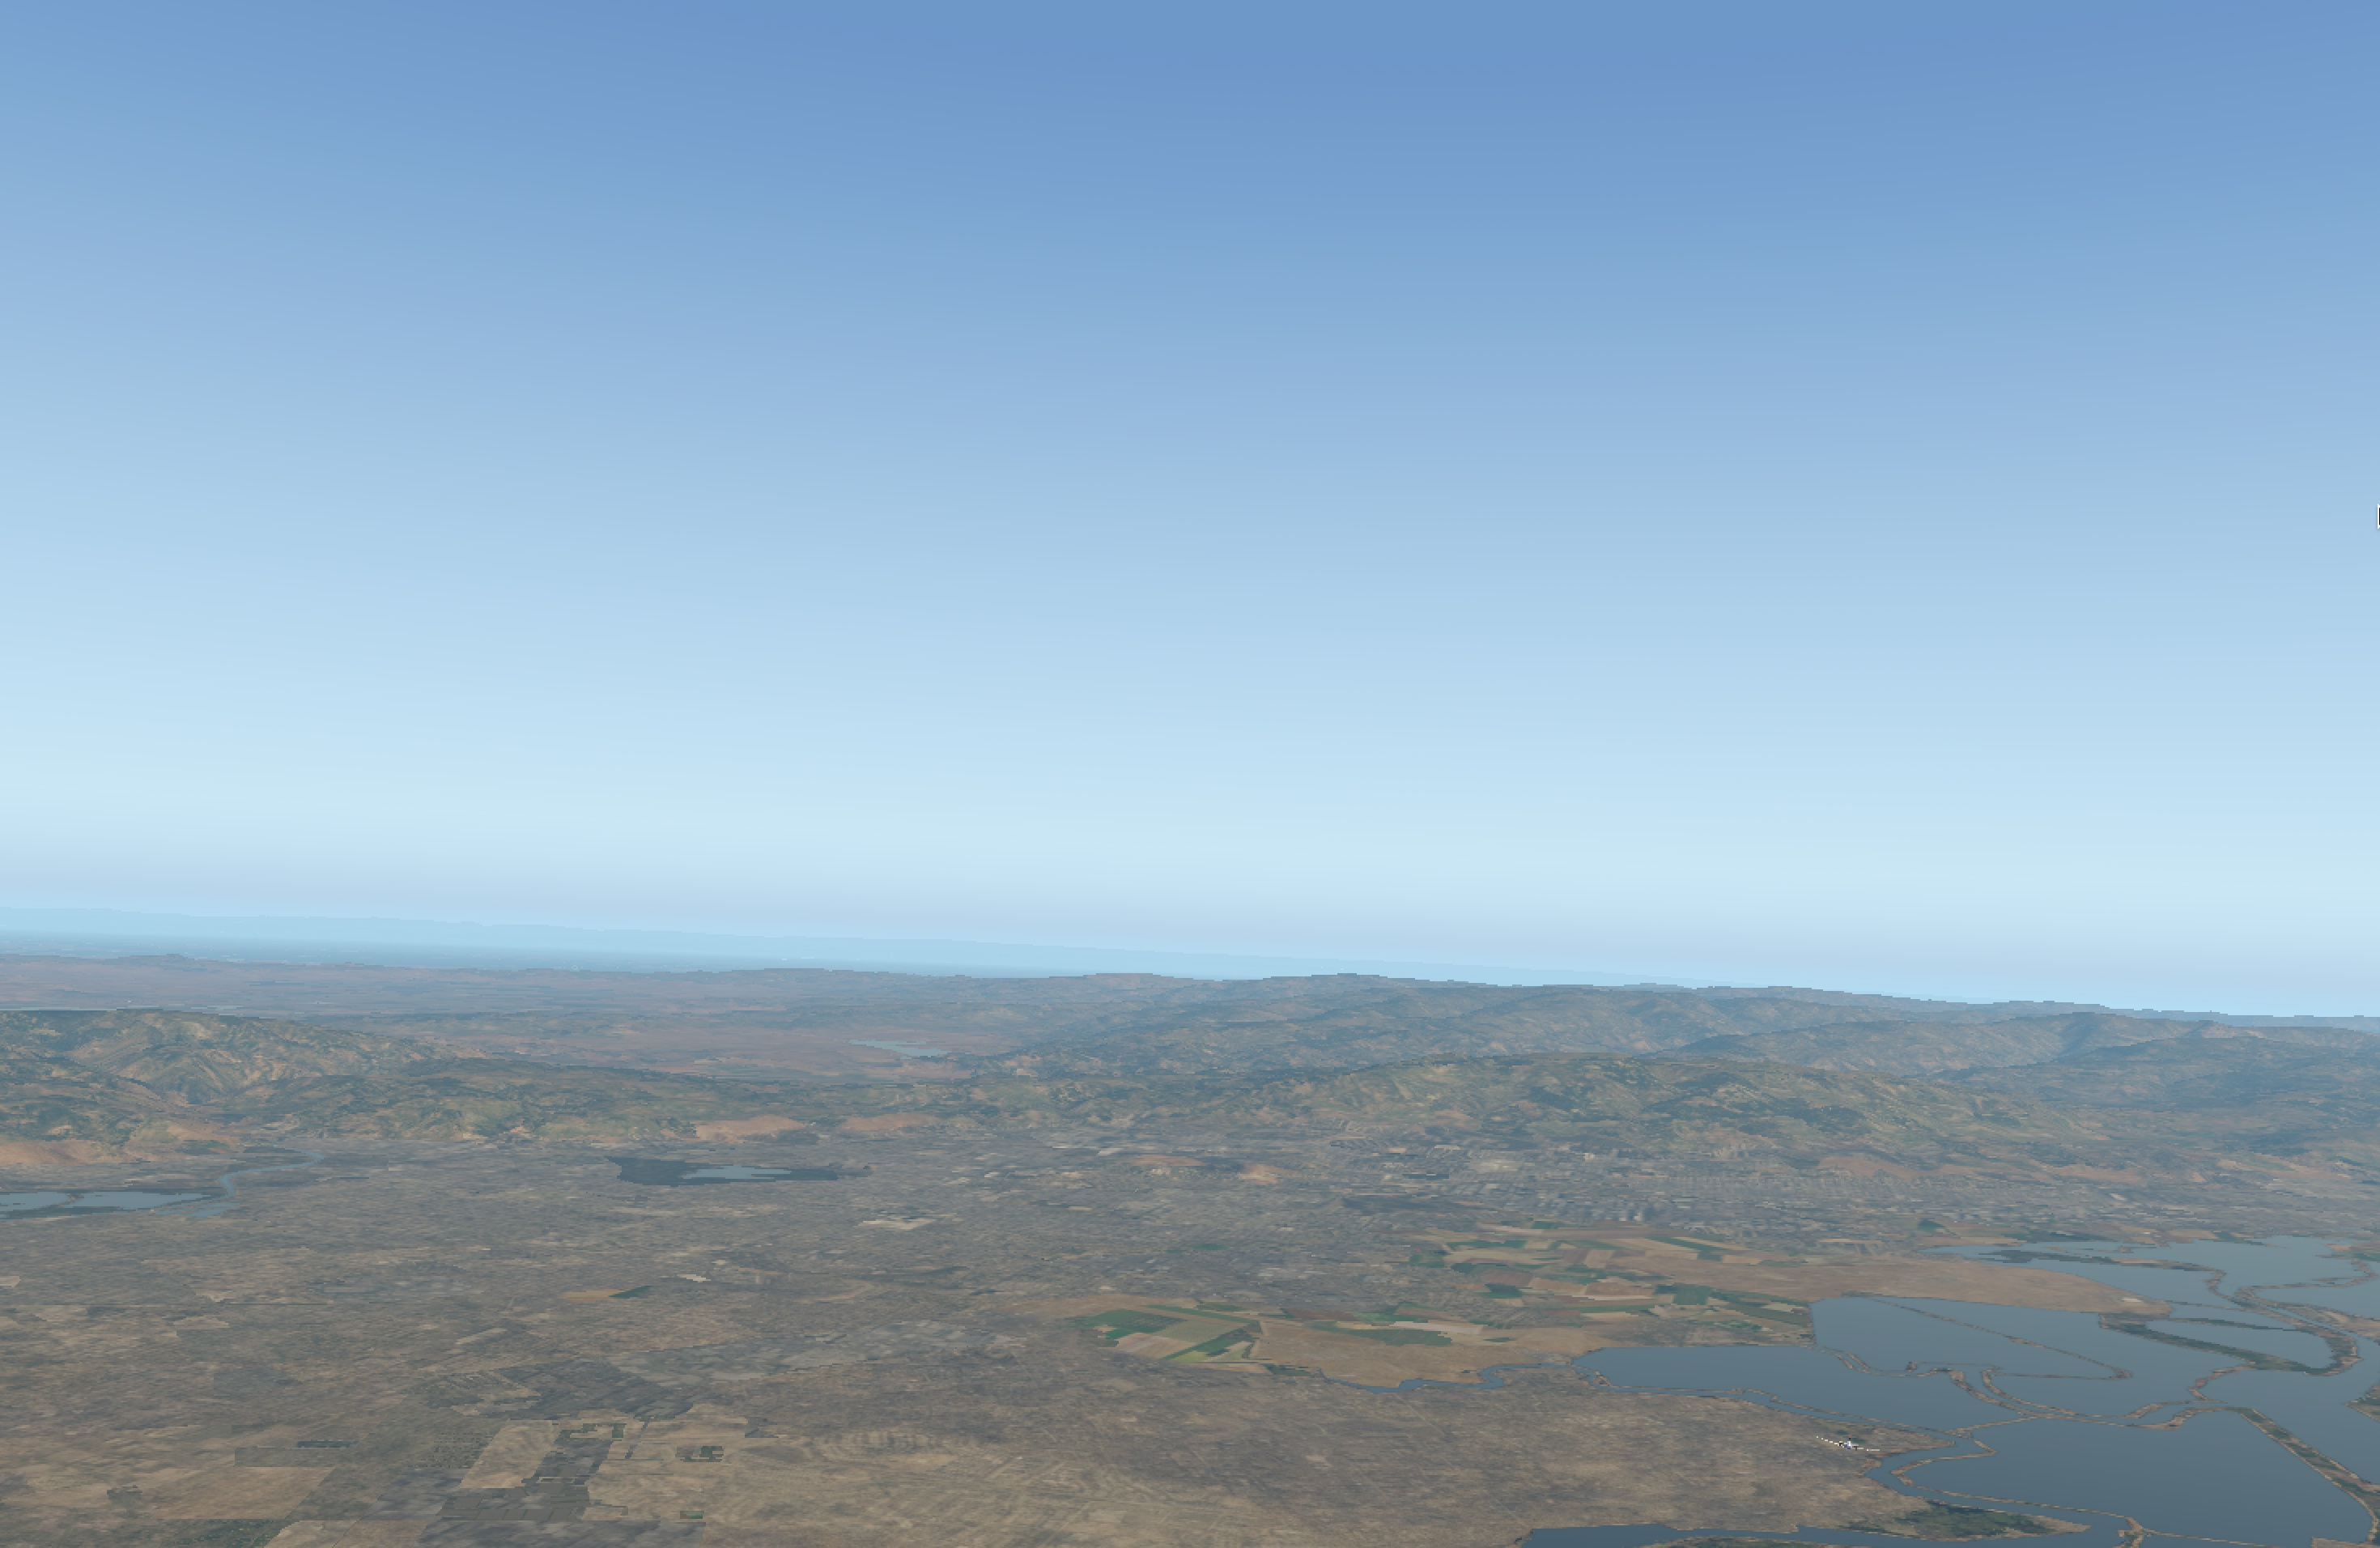aircraft: (1820, 1437, 1877, 1458)
